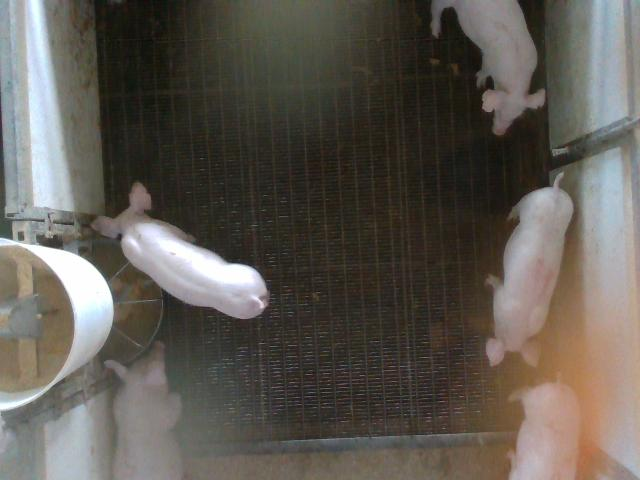pig-4: (486, 172, 574, 366)
